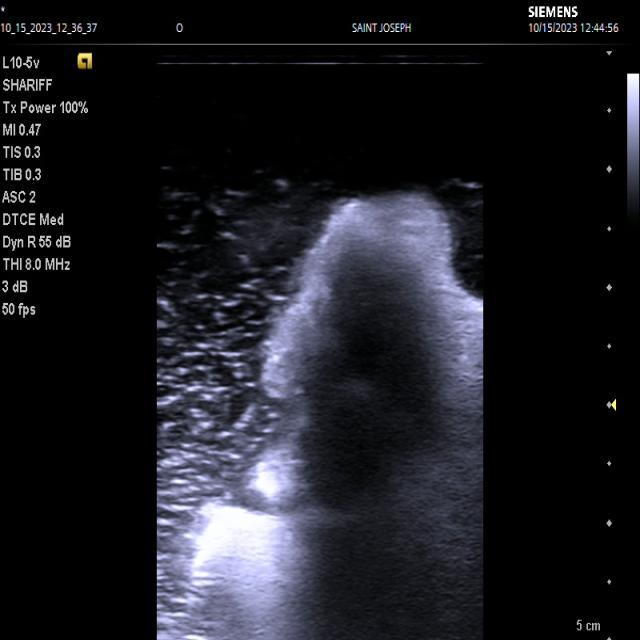tissue: (158, 190, 483, 640)
